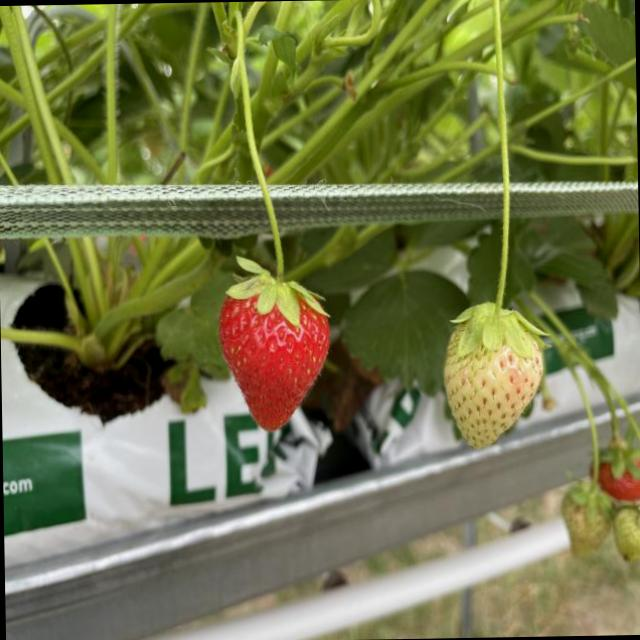stem: (452, 0, 547, 358), (228, 1, 326, 327)
strawberryNR: (443, 330, 540, 445)
strawberryR: (221, 297, 330, 429)
